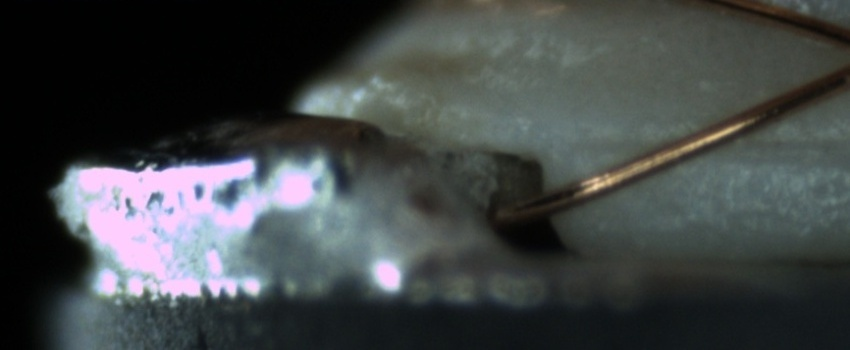DL: (601, 110, 849, 180)
